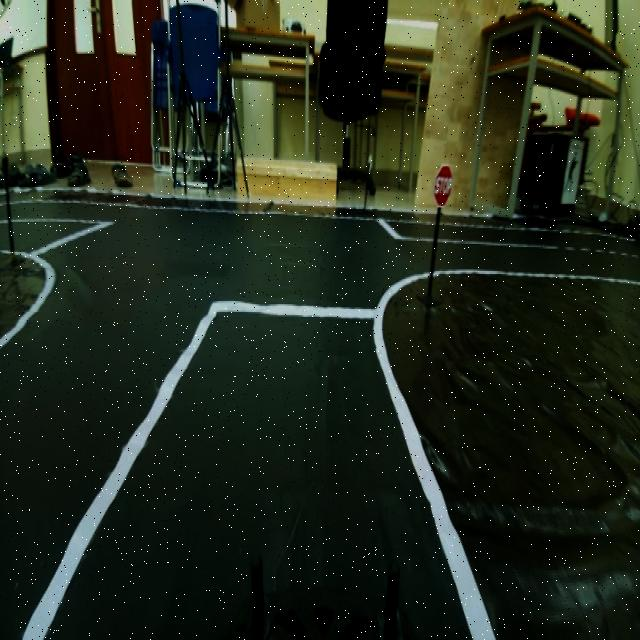stop: (432, 159, 457, 212)
